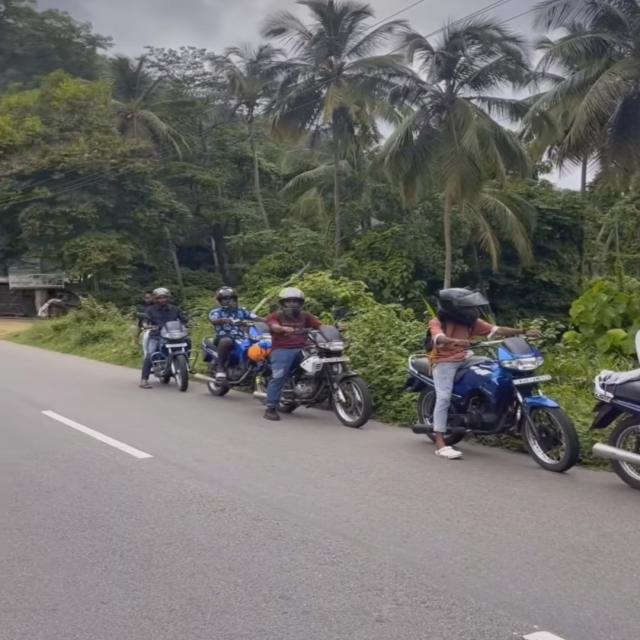Numberplate: (508, 375, 558, 381), (314, 355, 358, 361)
bike: (409, 282, 580, 470), (267, 270, 386, 433)
helmet: (429, 272, 493, 327), (277, 282, 319, 314)
